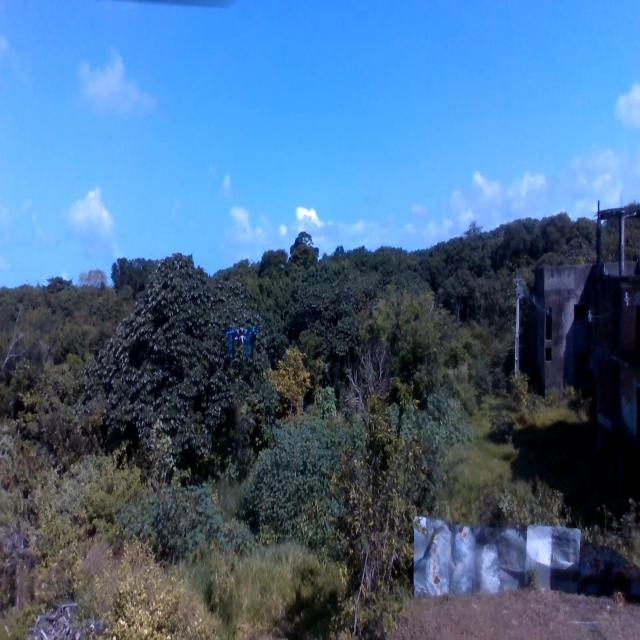-uav-: (217, 317, 269, 379)
